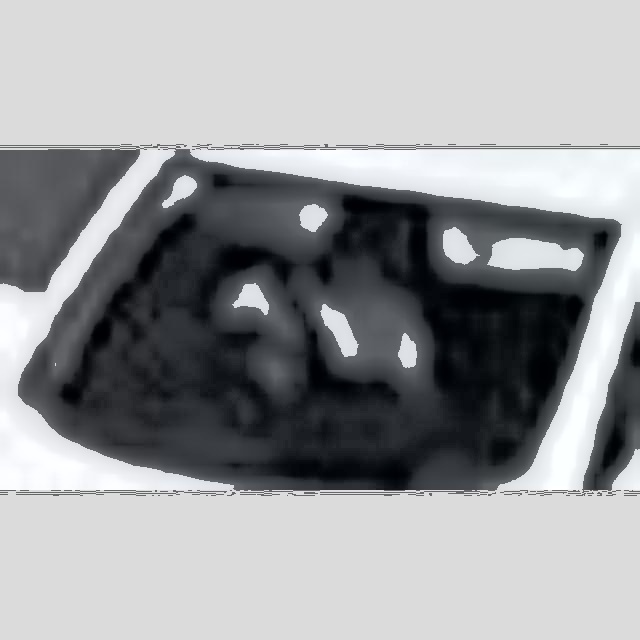pakai: (220, 230, 430, 400)
